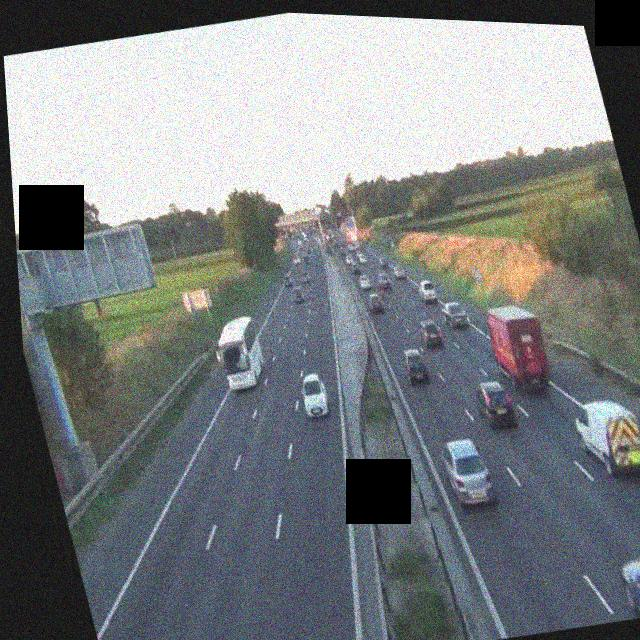bus: (209, 313, 272, 393)
car: (571, 395, 640, 483), (439, 434, 499, 511), (471, 377, 519, 433), (296, 372, 334, 420), (617, 542, 640, 620), (400, 345, 431, 386), (415, 314, 446, 351), (442, 297, 471, 330), (417, 277, 439, 305), (367, 292, 384, 315), (377, 273, 393, 292), (358, 273, 374, 292), (391, 263, 407, 281), (289, 285, 305, 303), (349, 262, 362, 277), (302, 271, 315, 286), (283, 271, 294, 286), (377, 255, 388, 269), (291, 254, 301, 266)
truck: (482, 299, 558, 399), (342, 225, 360, 250)
